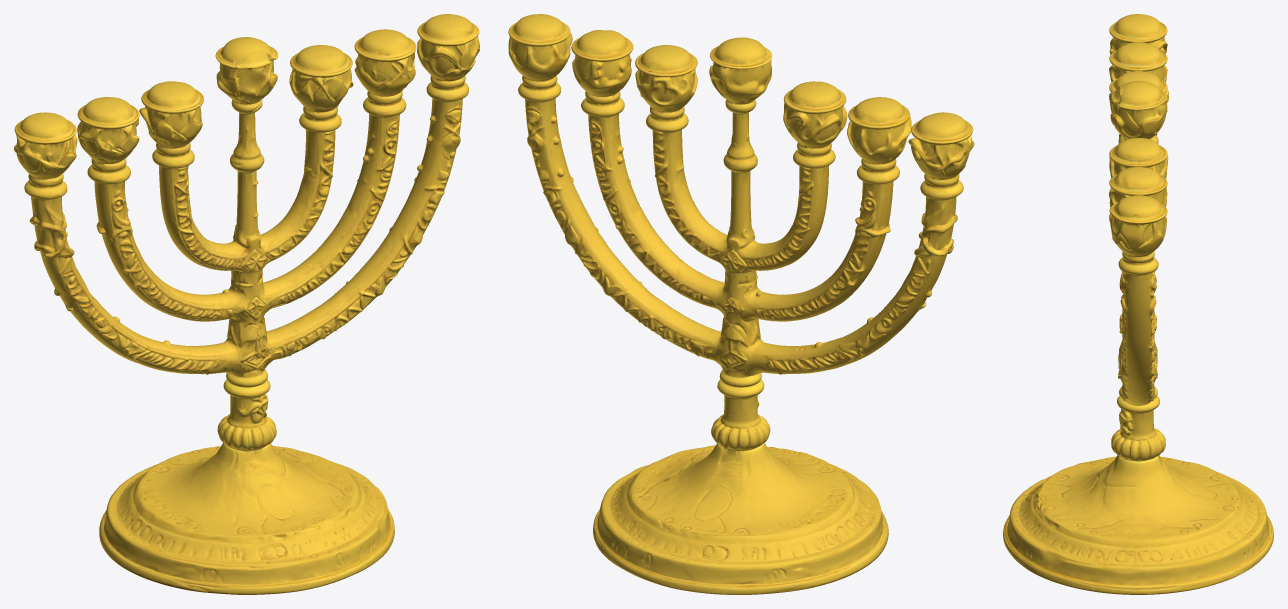
File: menorah.glb
The picture shows the model from 3 angles, left to right: view 1: azimuth 30°, elevation 25°; view 2: azimuth 150°, elevation 25°; view 3: azimuth 270°, elevation 25°; orthographic projection. The views are drawn at different scales.
Visible parts, largest first — view 1: tripo_node_ef71b9fa-b2fa-4116-bf3f-c47eed138d4b; view 2: tripo_node_ef71b9fa-b2fa-4116-bf3f-c47eed138d4b; view 3: tripo_node_ef71b9fa-b2fa-4116-bf3f-c47eed138d4b.
Part boxes in pixels (x1=…): tripo_node_ef71b9fa-b2fa-4116-bf3f-c47eed138d4b: x1=14, y1=14, x2=479, y2=594; tripo_node_ef71b9fa-b2fa-4116-bf3f-c47eed138d4b: x1=508, y1=14, x2=974, y2=594; tripo_node_ef71b9fa-b2fa-4116-bf3f-c47eed138d4b: x1=1003, y1=14, x2=1273, y2=594.
Bounding box in the file's own units: 0.951 × 0.9794 × 0.5308.
1 material, 1 textured.
